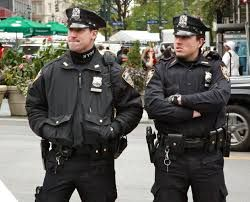gun: (140, 125, 163, 170), (33, 132, 57, 170)
uniform: (31, 53, 118, 195), (146, 60, 227, 186)
